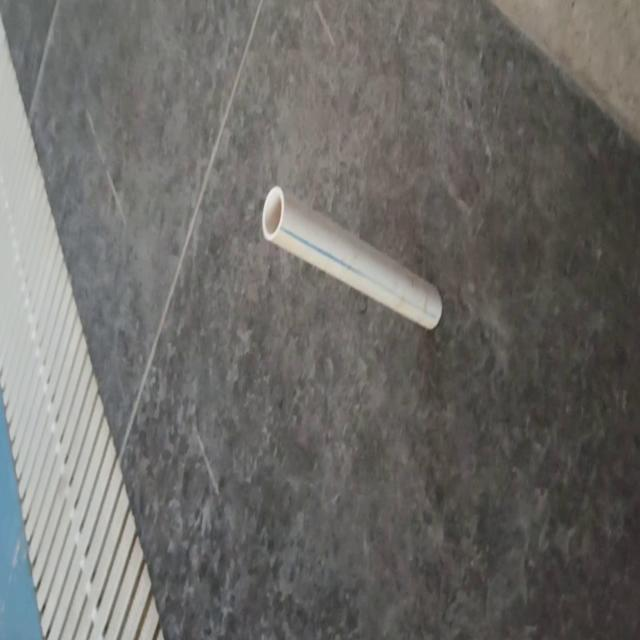Cube: (261, 183, 443, 332)
